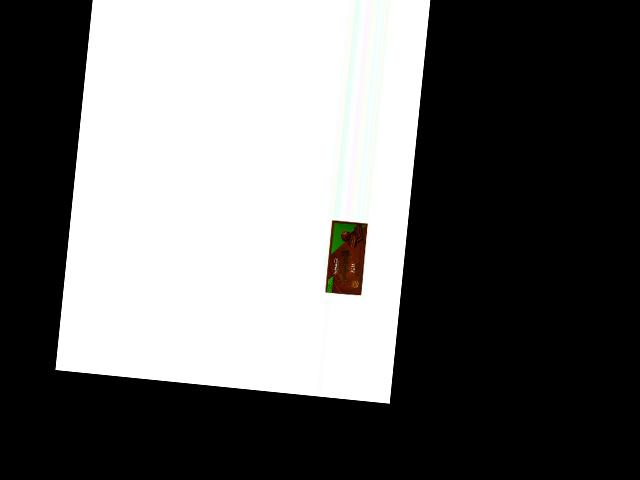chocolate: (323, 218, 371, 299)
